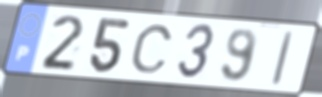2: (37, 14, 87, 73)
3: (174, 21, 217, 83)
5: (88, 15, 133, 76)
9: (220, 27, 259, 84)
C: (128, 23, 176, 76)
I: (269, 29, 296, 89)
